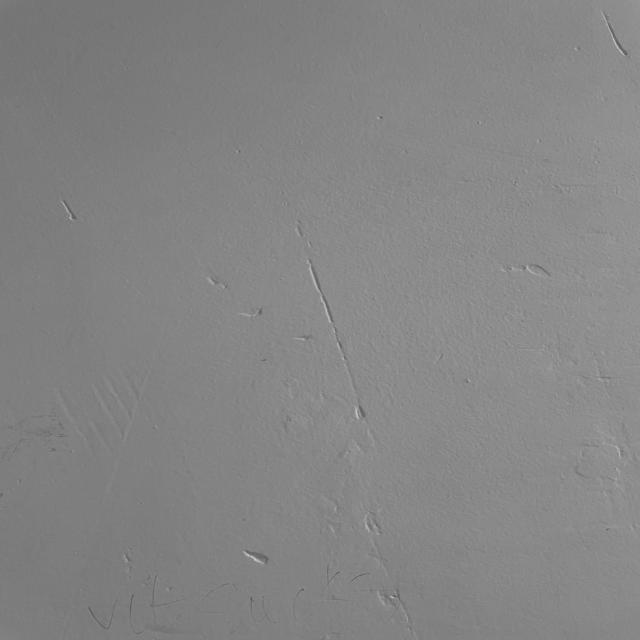rough and patchy surface: (18, 4, 632, 640)
